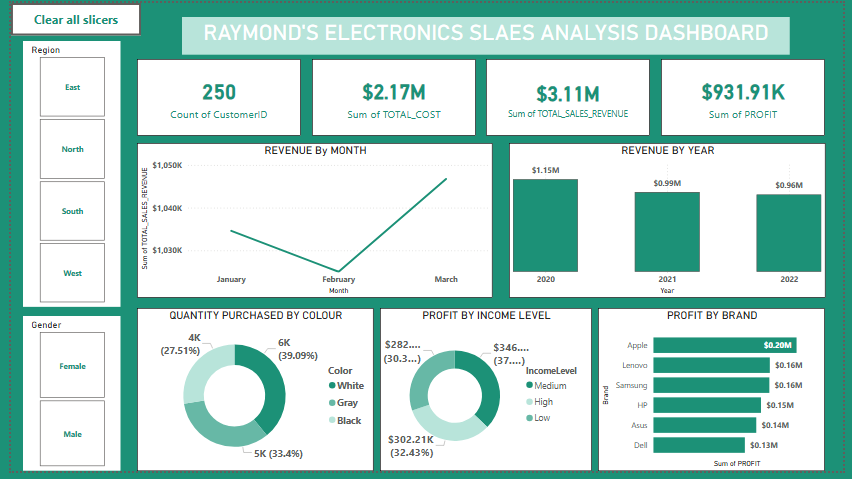

The page's visual inventory and layout, read from the dashboard file:
{"tool":"powerbi","page":{"name":"Page 2","canvas":[1280,720],"ordinal":1},"visuals":[{"type":"card","fields":{"Values":["Sum(Sales.TOTAL_SALES_REVENUE)"]},"box":[731.4,86.2,252,118.5],"z":0},{"type":"card","fields":{"Values":["Sum(Sales.PROFIT)"]},"box":[1000,86.2,252.3,118.5],"z":1000},{"type":"card","fields":{"Values":["Sum(Sales.TOTAL_COST)"]},"box":[462.8,86.2,252,118.5],"z":2000},{"type":"card","fields":{"Values":["CountNonNull(Table 2 (Customers).CustomerID)"]},"box":[193.8,86.2,252.3,118.5],"z":3000},{"type":"slicer","fields":{"Values":["Table 2 (Customers).Region"]},"box":[18.2,59.1,150.1,409.5],"z":4000},{"type":"donutChart","title":"QUANTITY PURCHASED BY COLOUR","fields":{"Category":["Table 1 (Products).Color"],"Y":["Sum(Sales.Quantity)"]},"box":[193.4,468.9,363.9,250.8],"z":5000},{"type":"lineChart","title":"REVENUE By MONTH ","fields":{"Category":["Sales.SaleDate.Variation.Date Hierarchy.Month"],"Y":["Sum(Sales.TOTAL_SALES_REVENUE)"]},"box":[193.4,215.4,547.5,238.1],"z":6000},{"type":"barChart","title":"PROFIT BY BRAND","fields":{"Y":["Sum(Sales.PROFIT)"],"Category":["Table 1 (Products).Brand"]},"box":[903.3,468.9,349.2,250.8],"z":7000},{"type":"donutChart","title":"PROFIT BY INCOME LEVEL","fields":{"Category":["Table 2 (Customers).IncomeLevel"],"Y":["Sum(Sales.PROFIT)"]},"box":[567.2,468.9,326.2,250.8],"z":8000},{"type":"clusteredColumnChart","title":"REVENUE BY YEAR","fields":{"Category":["Table 2 (Customers).SignupDate.Variation.Date Hierarchy.Year"],"Y":["Sum(Sales.TOTAL_SALES_REVENUE)"]},"box":[765.9,215.4,486.8,238.1],"z":9000},{"type":"slicer","fields":{"Values":["Table 2 (Customers).Gender"]},"box":[18,482,150,238],"z":10000},{"type":"textbox","box":[263.1,21.5,935.4,58.5],"z":11000},{"type":"actionButton","box":[0,0,200,50],"z":12000}]}

Visuals, with their boxes in screenshot pixels (x1, y1, x2, y2), scaled from the page's 1280x720 canvas onto the 852x479 screenshot:
card - Sum(Sales.TOTAL_SALES_REVENUE): <box>487,57,655,136</box>
card - Sum(Sales.PROFIT): <box>666,57,834,136</box>
card - Sum(Sales.TOTAL_COST): <box>308,57,476,136</box>
card - CountNonNull(Table 2 (Customers).CustomerID): <box>129,57,297,136</box>
slicer - Table 2 (Customers).Region: <box>12,39,112,312</box>
"QUANTITY PURCHASED BY COLOUR" donutChart: <box>129,312,371,478</box>
"REVENUE By MONTH " lineChart: <box>129,143,493,302</box>
"PROFIT BY BRAND" barChart: <box>601,312,834,478</box>
"PROFIT BY INCOME LEVEL" donutChart: <box>378,312,595,478</box>
"REVENUE BY YEAR" clusteredColumnChart: <box>510,143,834,302</box>
slicer - Table 2 (Customers).Gender: <box>12,321,112,478</box>
textbox: <box>175,14,798,53</box>
actionButton: <box>0,0,133,33</box>
